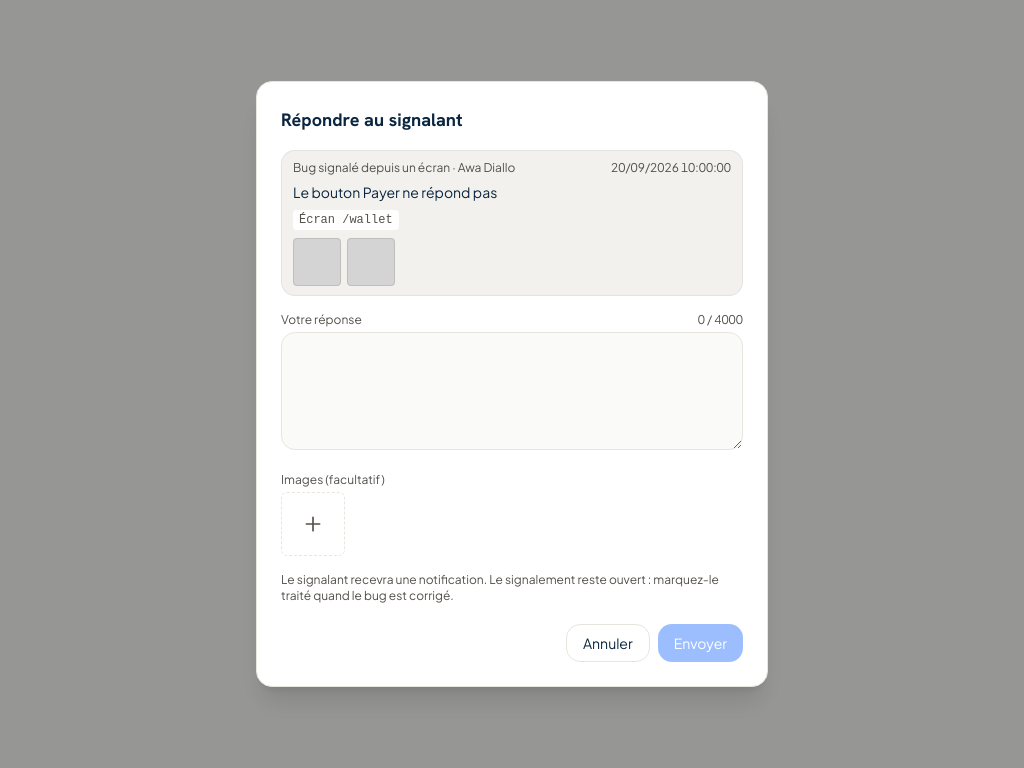
it: ReportReplyDialog › erreur 403 affichée dans la fenêtre, qui reste ouverte
Step 1. Type "Merci" into the text box with test id "reply-message" → (512, 391), box [281,332,743,450]
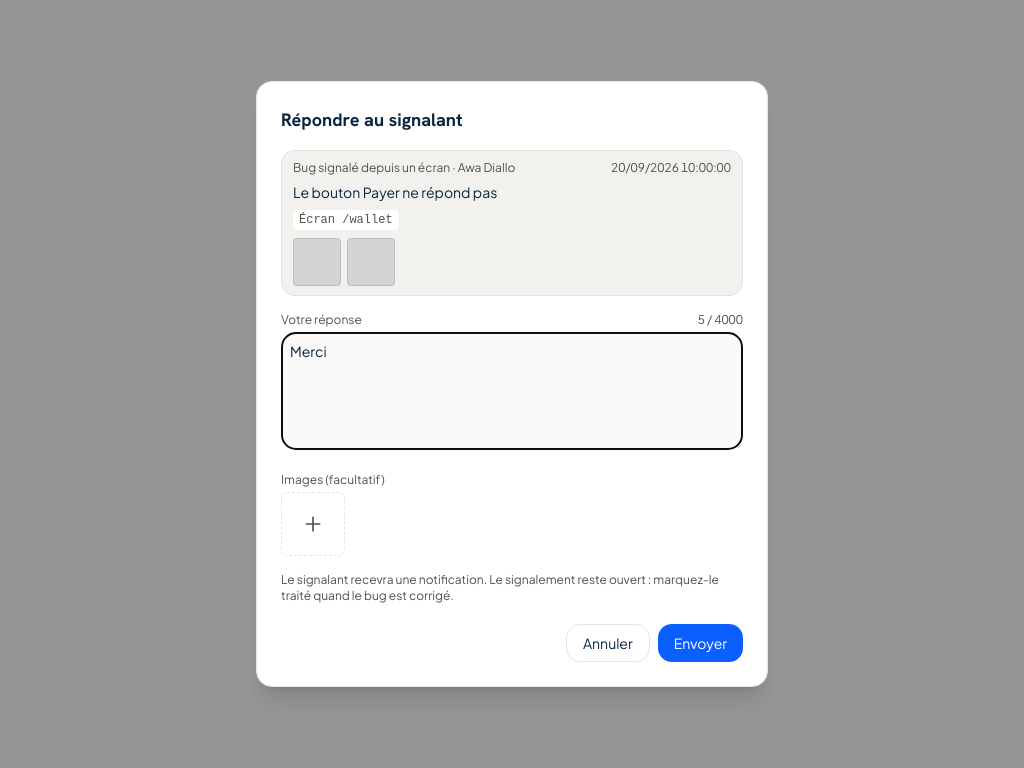
Step 2. Click the button with test id "reply-submit" → (700, 643), box [658,624,743,662]
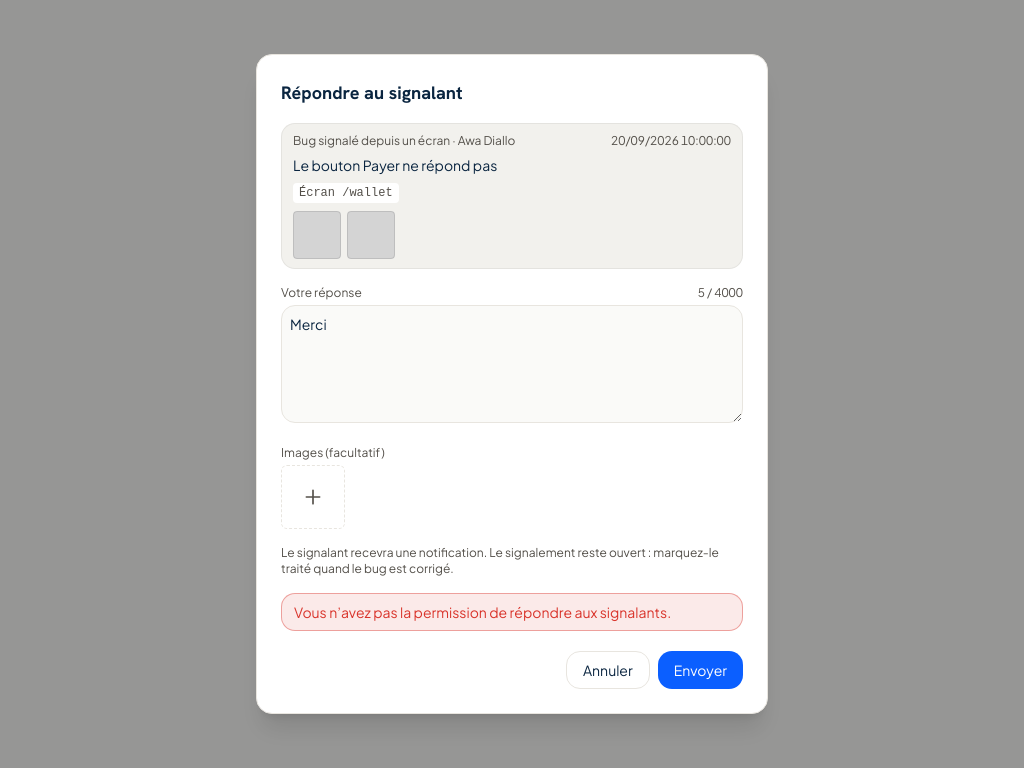
Expected: the dialog with test id "reply-dialog" is shown, [256,54,768,714]
Expected: the message with test id "reply-error" shows "permission", [294,603,671,621]
